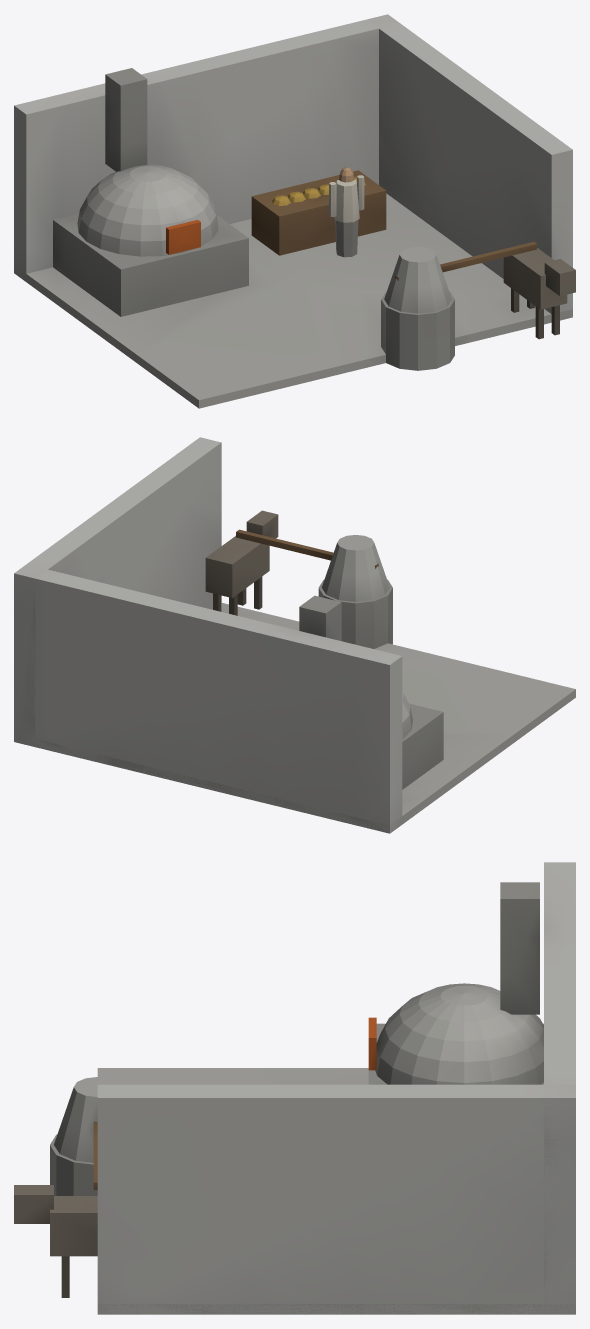
Rendered from bakery.glb.
The picture shows the model from 3 angles, top to bottom: view 1: azimuth 30°, elevation 25°; view 2: azimuth 150°, elevation 25°; view 3: azimuth 270°, elevation 25°; orthographic projection. The views are drawn at different scales.
Visible parts, largest first — view 1: base, anim_spin; view 2: base, anim_spin; view 3: base, anim_spin.
Boxes of the visible parts, x1=… form: base: x1=14, y1=14, x2=572, y2=408; anim_spin: x1=381, y1=241, x2=575, y2=370; base: x1=14, y1=437, x2=575, y2=833; anim_spin: x1=205, y1=510, x2=392, y2=648; base: x1=97, y1=862, x2=575, y2=1314; anim_spin: x1=14, y1=1077, x2=119, y2=1297.
Bounding box in the file's own units: 7 × 3.4 × 7.05.
